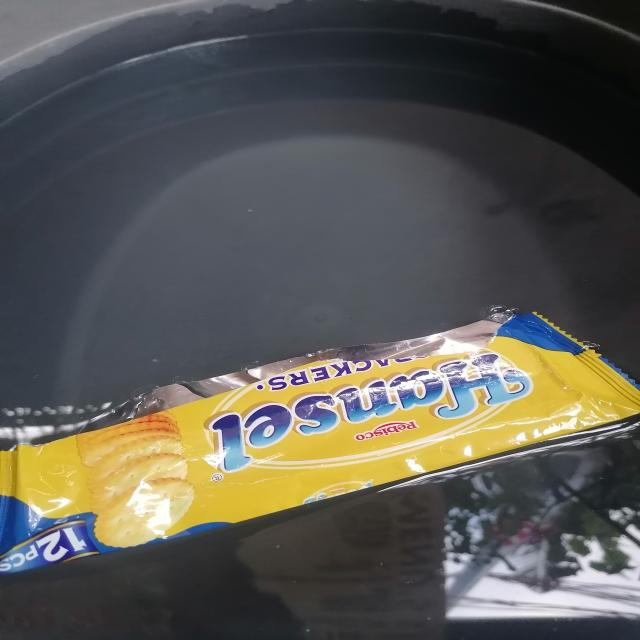Plastic Wrapper: (0, 283, 640, 592)
